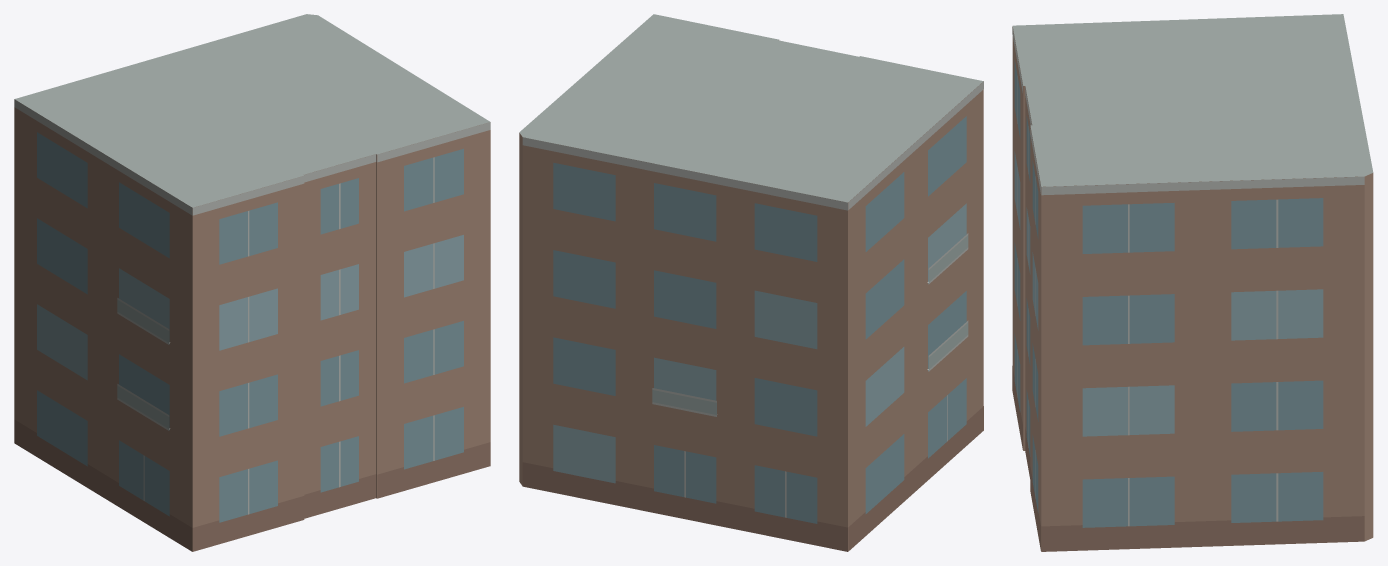
The model's file is survey-upis-32931148.glb.
3 views of the same model, side by side, from view 1: azimuth 30°, elevation 25°; view 2: azimuth 150°, elevation 25°; view 3: azimuth 270°, elevation 25° (orthographic). The views are drawn at different scales.
Parts seen in each view (by area): view 1: survey-upis-32931148.tmp; view 2: survey-upis-32931148.tmp; view 3: survey-upis-32931148.tmp.
Boxes of the visible parts, x1=… form: survey-upis-32931148.tmp: x1=14, y1=14, x2=490, y2=551; survey-upis-32931148.tmp: x1=519, y1=14, x2=983, y2=551; survey-upis-32931148.tmp: x1=1012, y1=14, x2=1373, y2=551.
Bounding box in the file's own units: 10.77 × 10.6 × 9.51.
